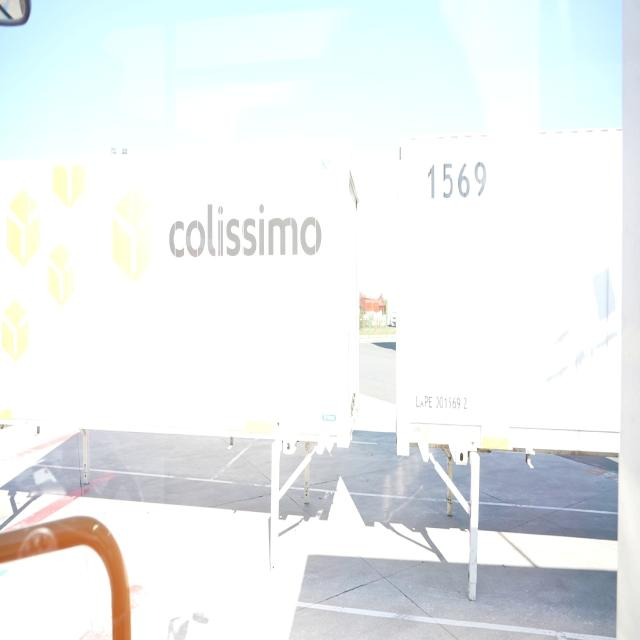Code: (425, 153, 489, 206)
